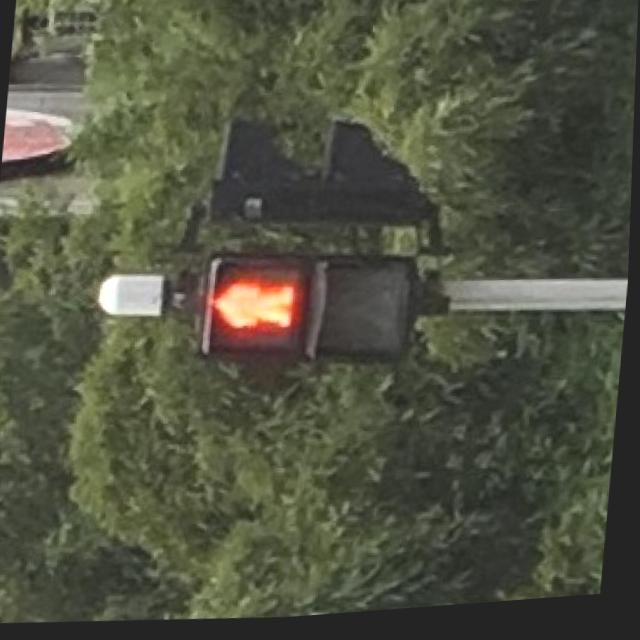red_light: (202, 264, 305, 355)
